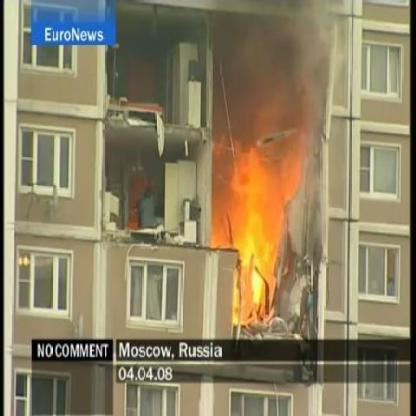fire: (232, 131, 279, 319)
